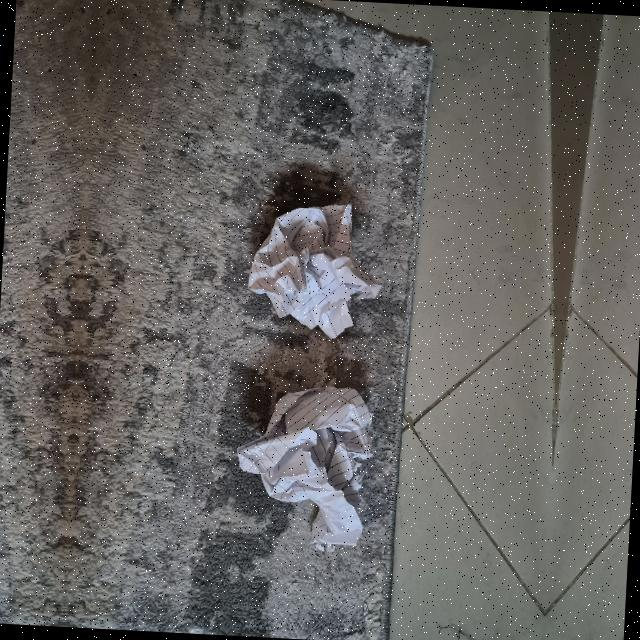paper: (246, 385, 380, 557), (251, 208, 374, 342)
